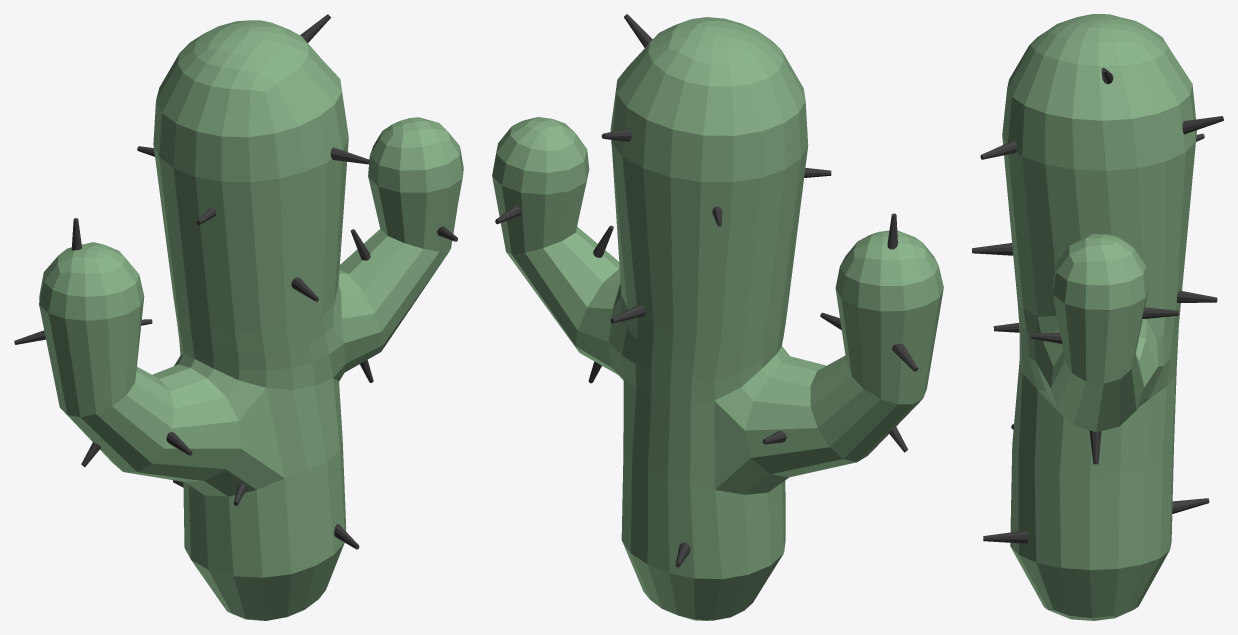
The model's file is GameJam_KaktuslessSubdivisions.fbx.
The picture shows the model from 3 angles, left to right: view 1: azimuth 30°, elevation 25°; view 2: azimuth 150°, elevation 25°; view 3: azimuth 270°, elevation 25°; orthographic projection.
Visible parts, largest first — view 1: Group35313; view 2: Group35313; view 3: Group35313.
Part boxes in pixels (<box>): Group35313: <box>14,14,463,620</box>; Group35313: <box>492,14,943,620</box>; Group35313: <box>972,14,1223,620</box>.
Size of the model in its own units: 3.06 by 3.98 by 1.55.
